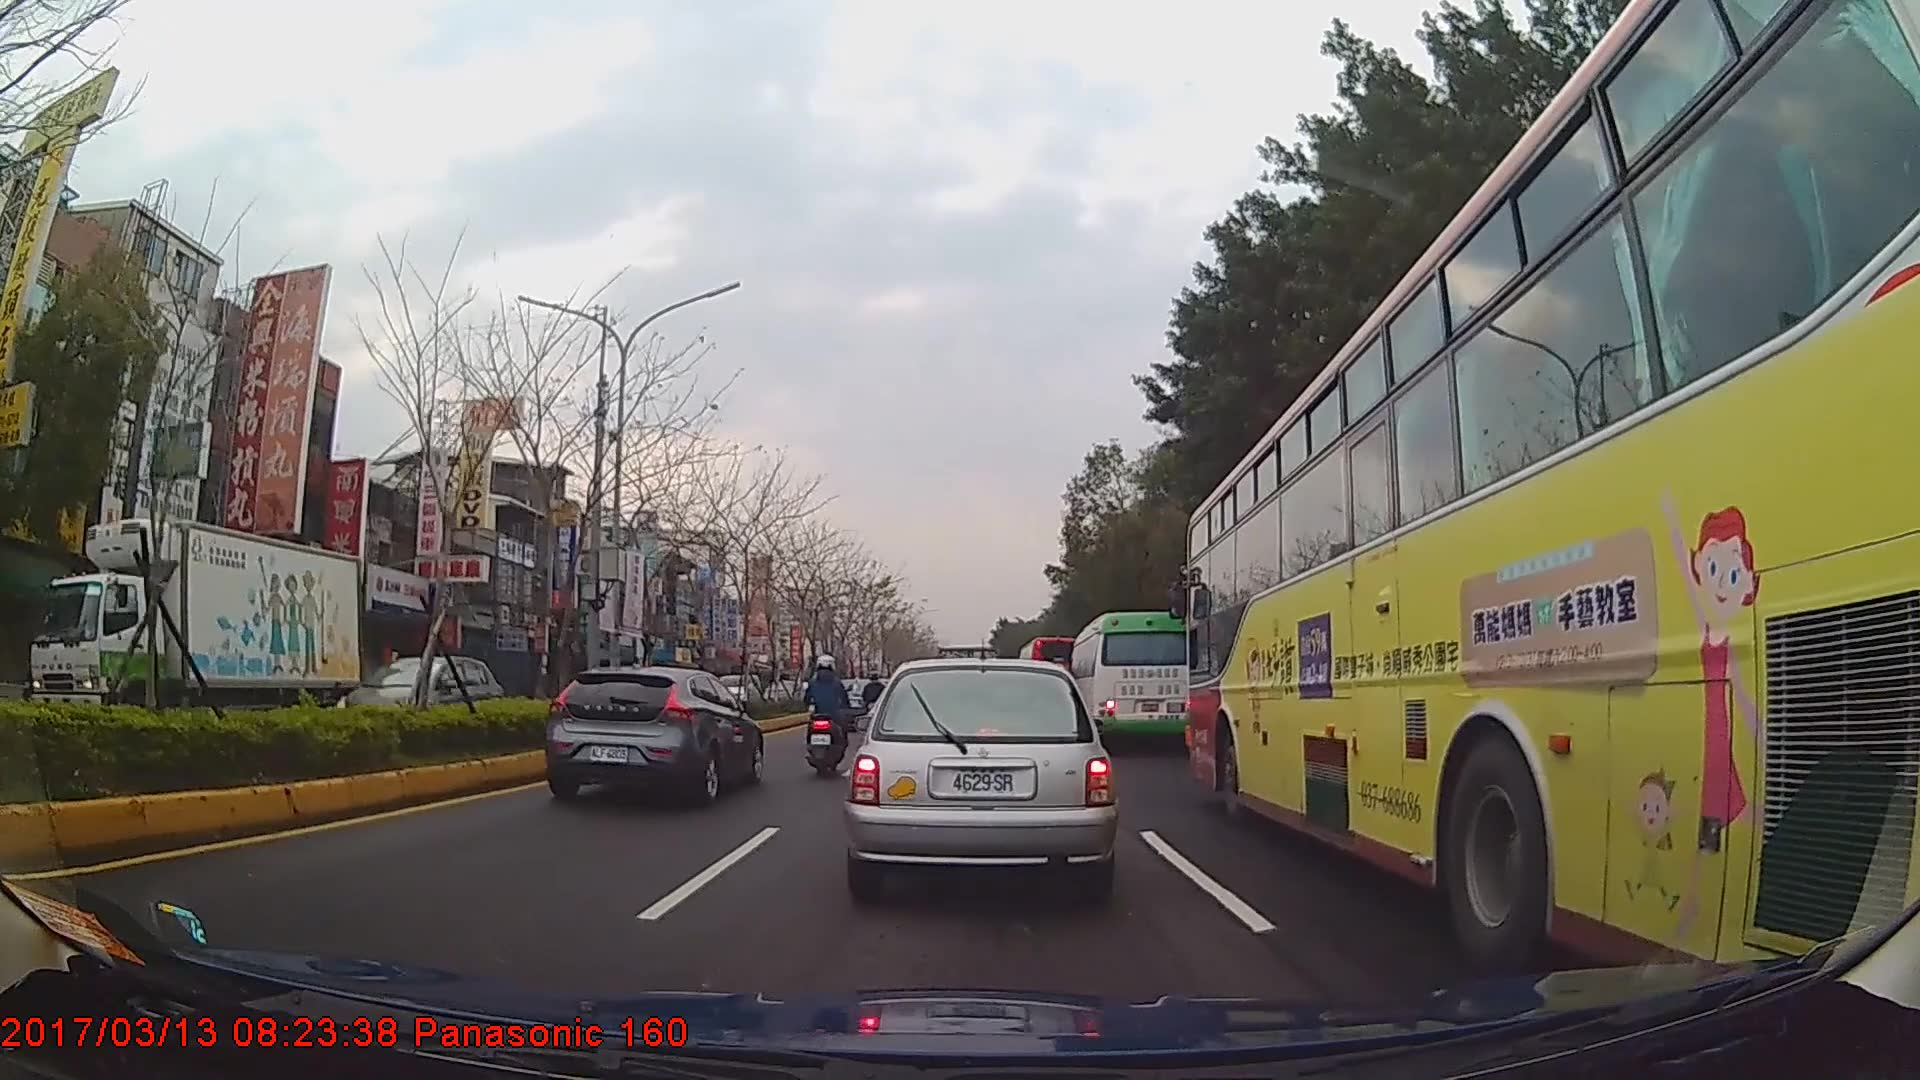rider: (804, 656, 853, 767), (863, 674, 889, 740)
vehicle: (1187, 0, 1920, 1024), (29, 517, 364, 743), (844, 655, 1114, 908), (544, 666, 765, 808), (1069, 612, 1194, 753), (333, 652, 501, 746), (1015, 638, 1083, 711)
